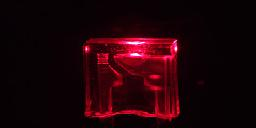LED: (78, 33, 184, 122)
